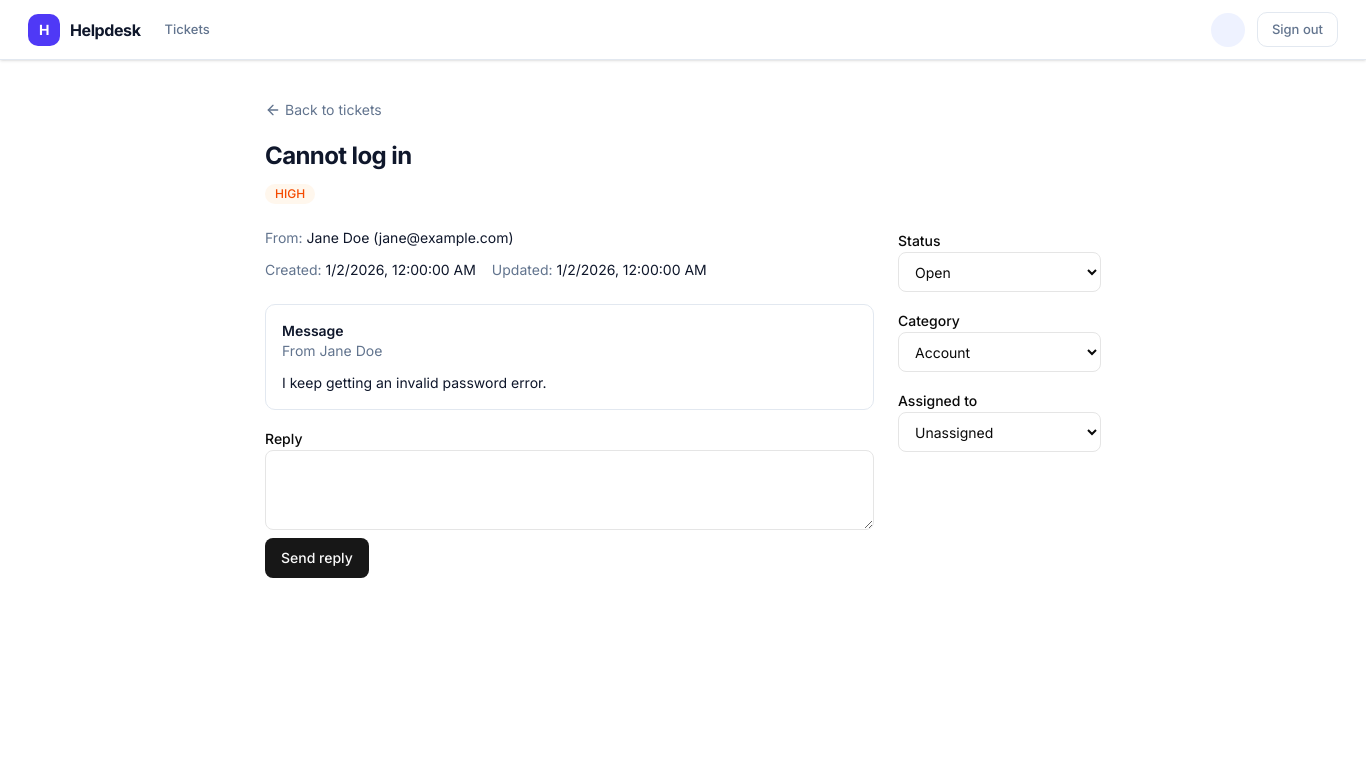
Test: TicketDetailPage › shows the server's error message when a status update fails
The width and height of the screenshot is (1366, 768).
Expected: the heading "Cannot log in" is shown, top-left (265, 141), bottom-right (412, 170)
Select "Closed" in the dropdown labelled "Status" at (1000, 272), box top-left (898, 252), bottom-right (1101, 292)
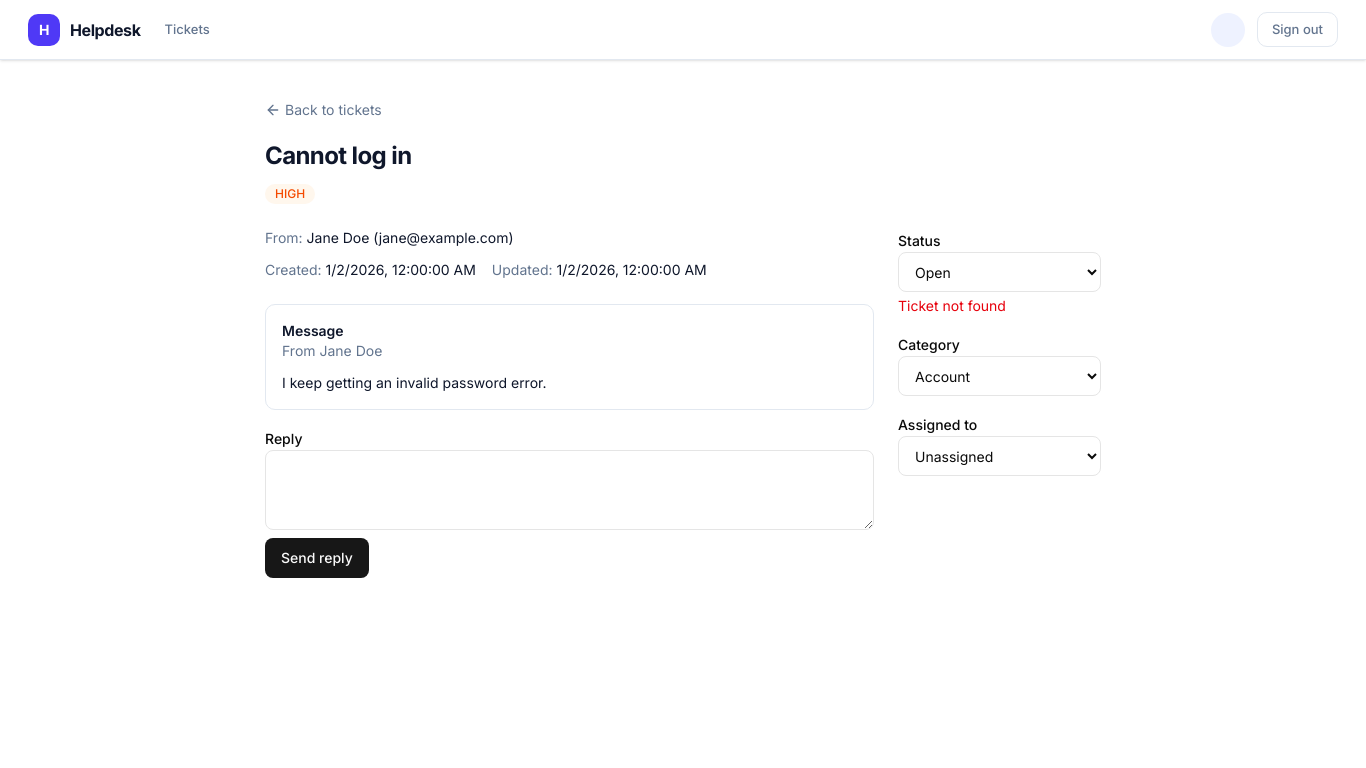
Now the text "Ticket not found" is shown, box top-left (898, 297), bottom-right (1006, 314)
